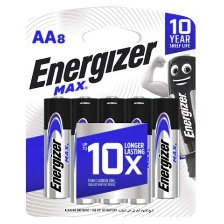battery: (94, 94, 130, 208), (123, 94, 157, 207), (69, 92, 101, 207), (42, 94, 73, 201), (149, 95, 180, 200)
